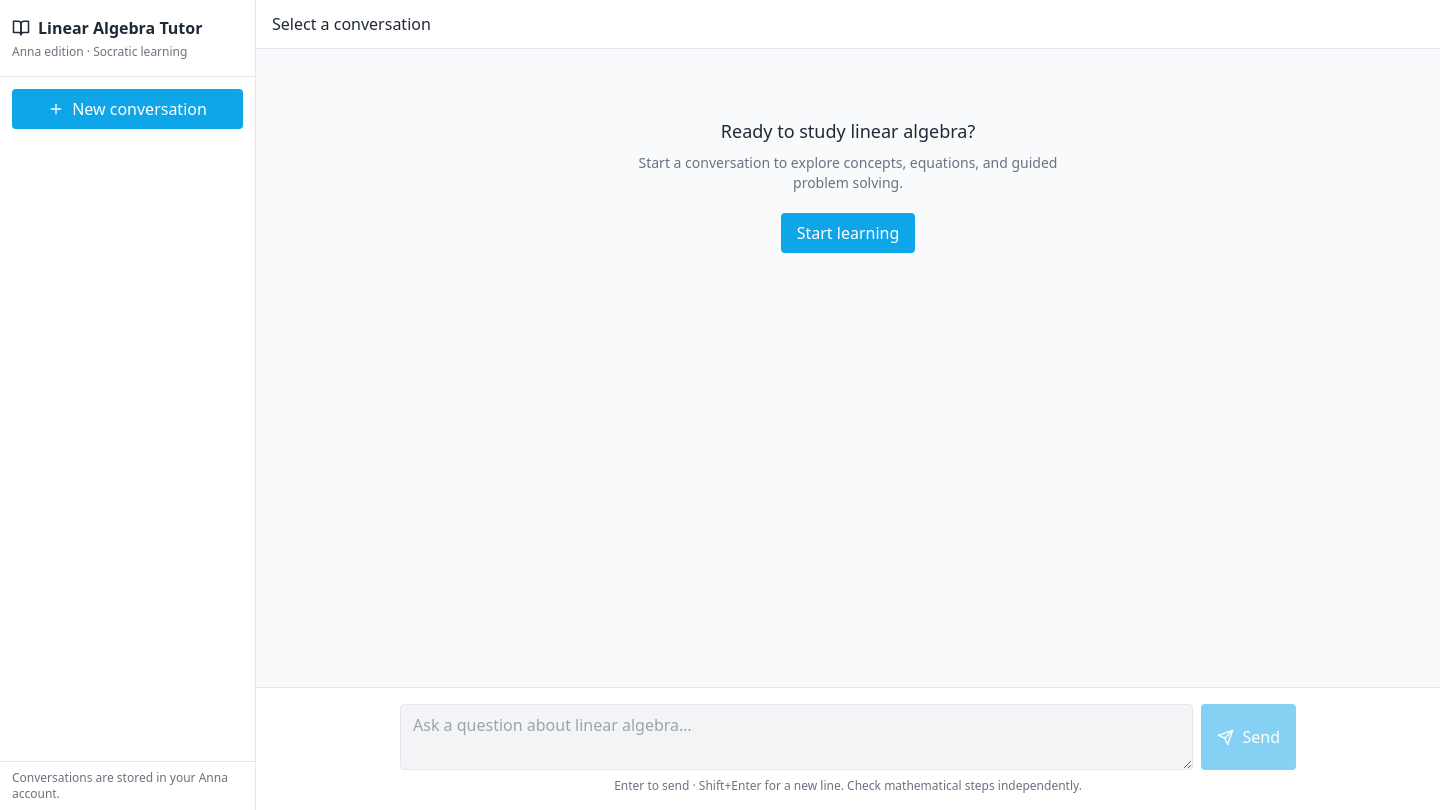
Test: Anna tutoring window › cancels a pending deletion when a different chat is opened
Click the button "Start learning": (848, 233) [781,213,915,253]
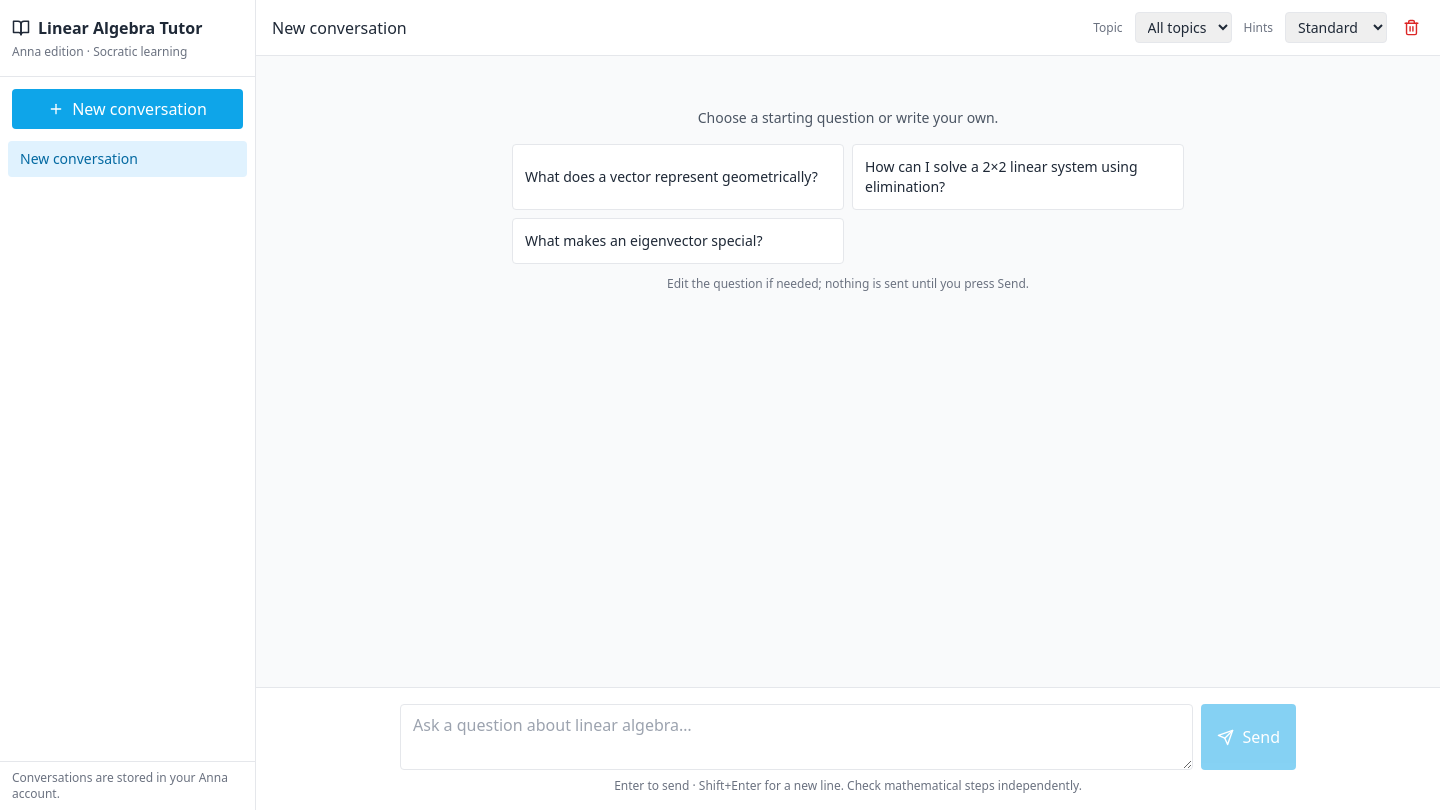
In the text box named "Ask a linear algebra question": (797, 737) [400,704,1194,770], type "What is a vector?"
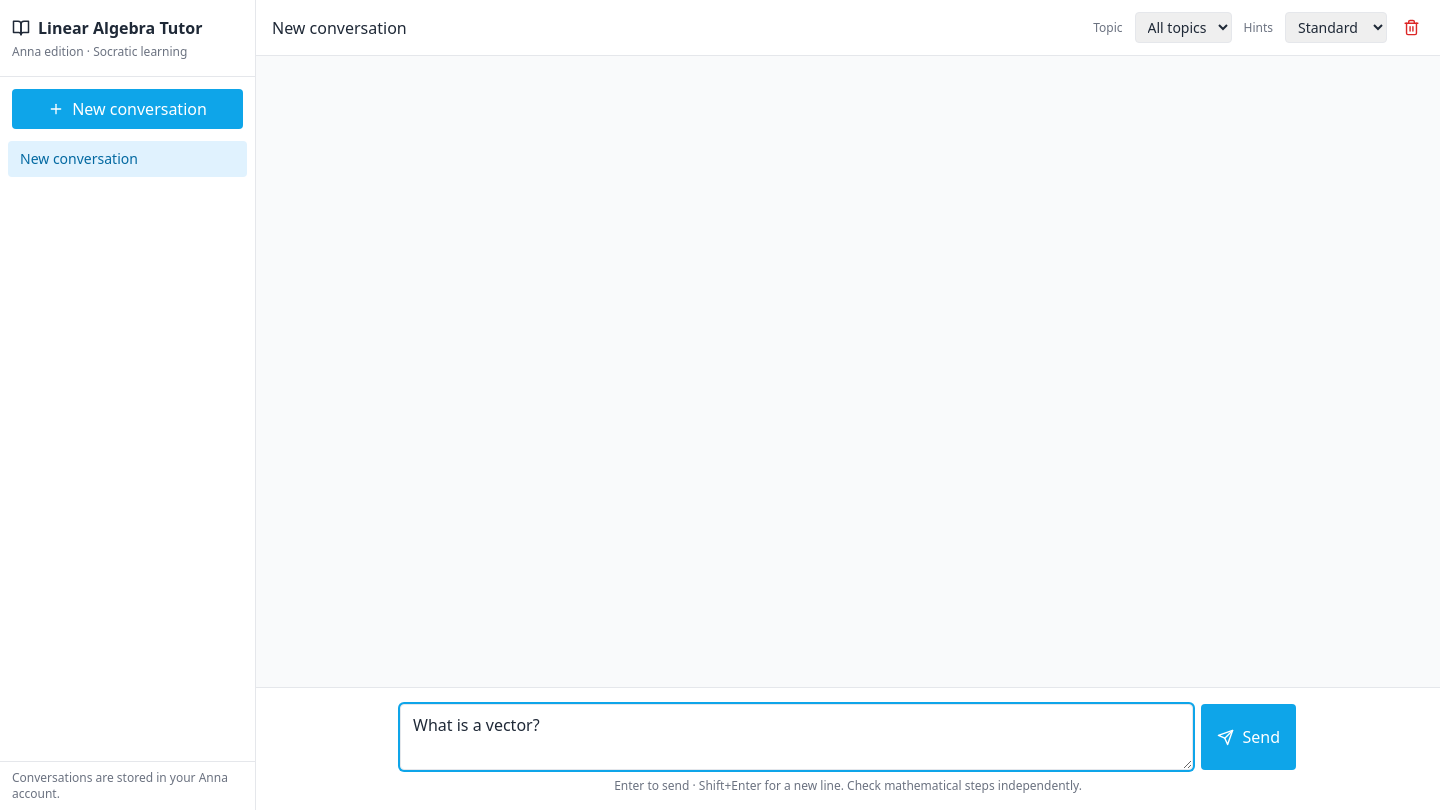
Click the button "Send": (1249, 737) [1202,704,1296,770]
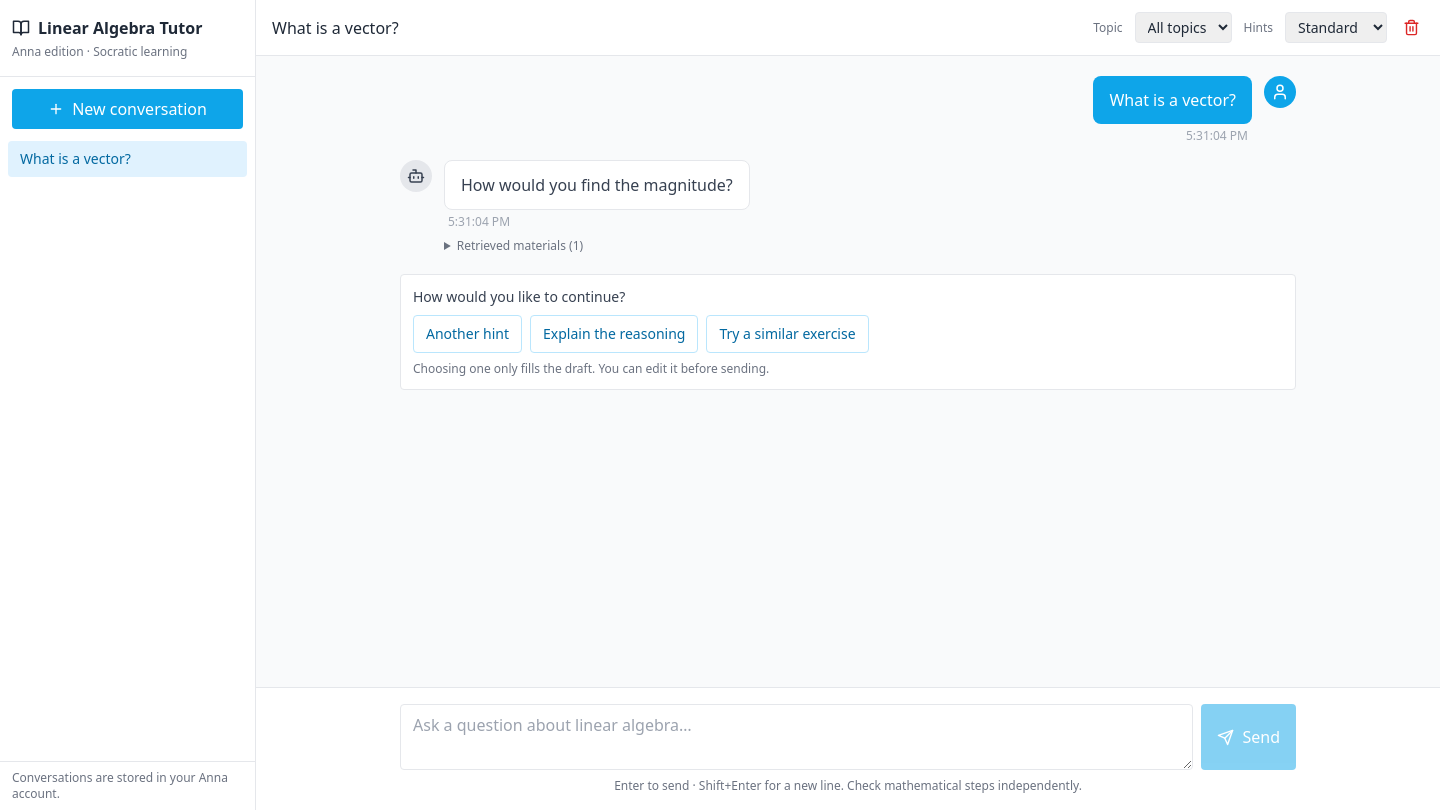
Expected: the text "How would you find the magnitude?" is shown, [461,173,733,197]
Click the button with aria-label "Create conversation": (128, 109) [12,89,243,129]
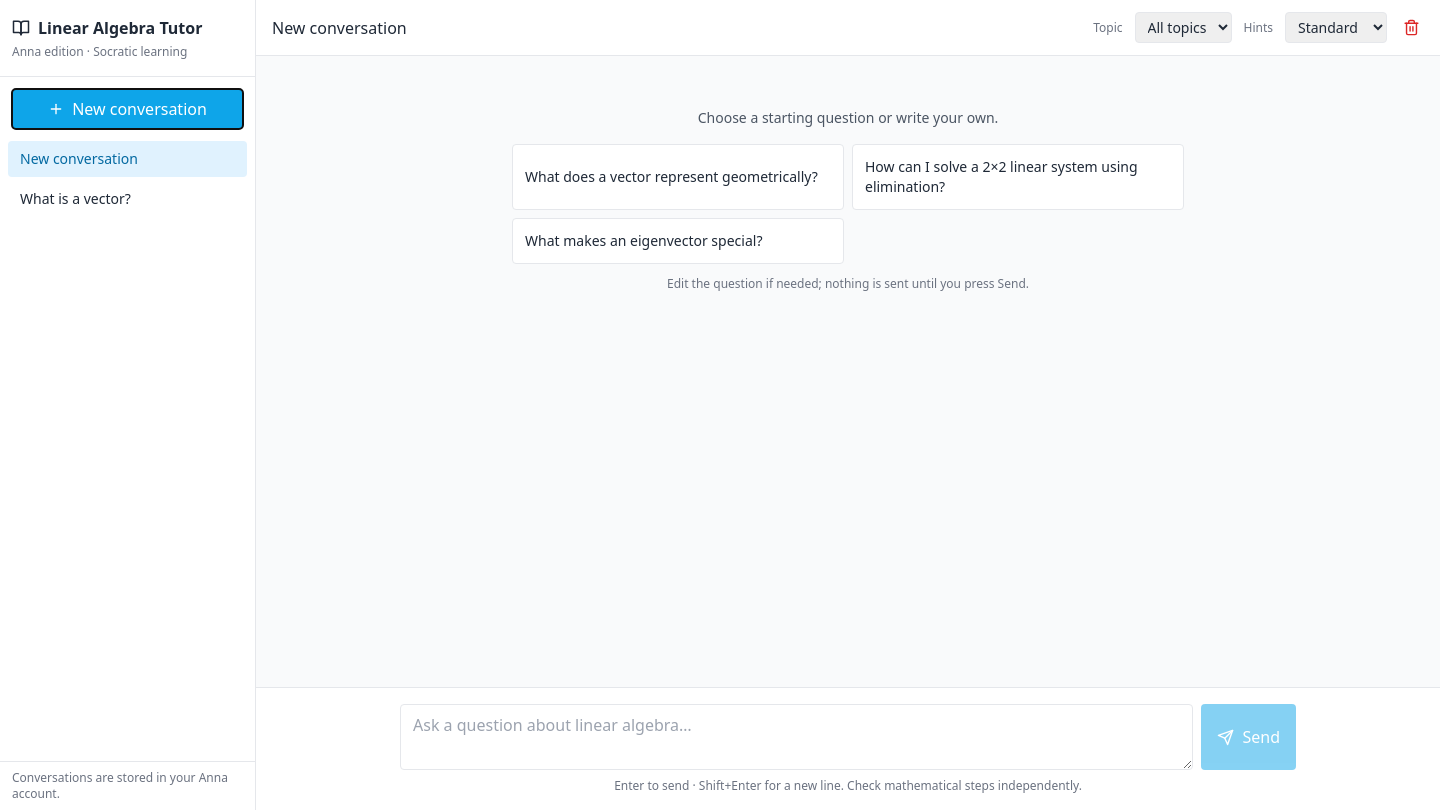
Click the button named "Delete conversation": (1412, 28) [1399,15,1424,40]
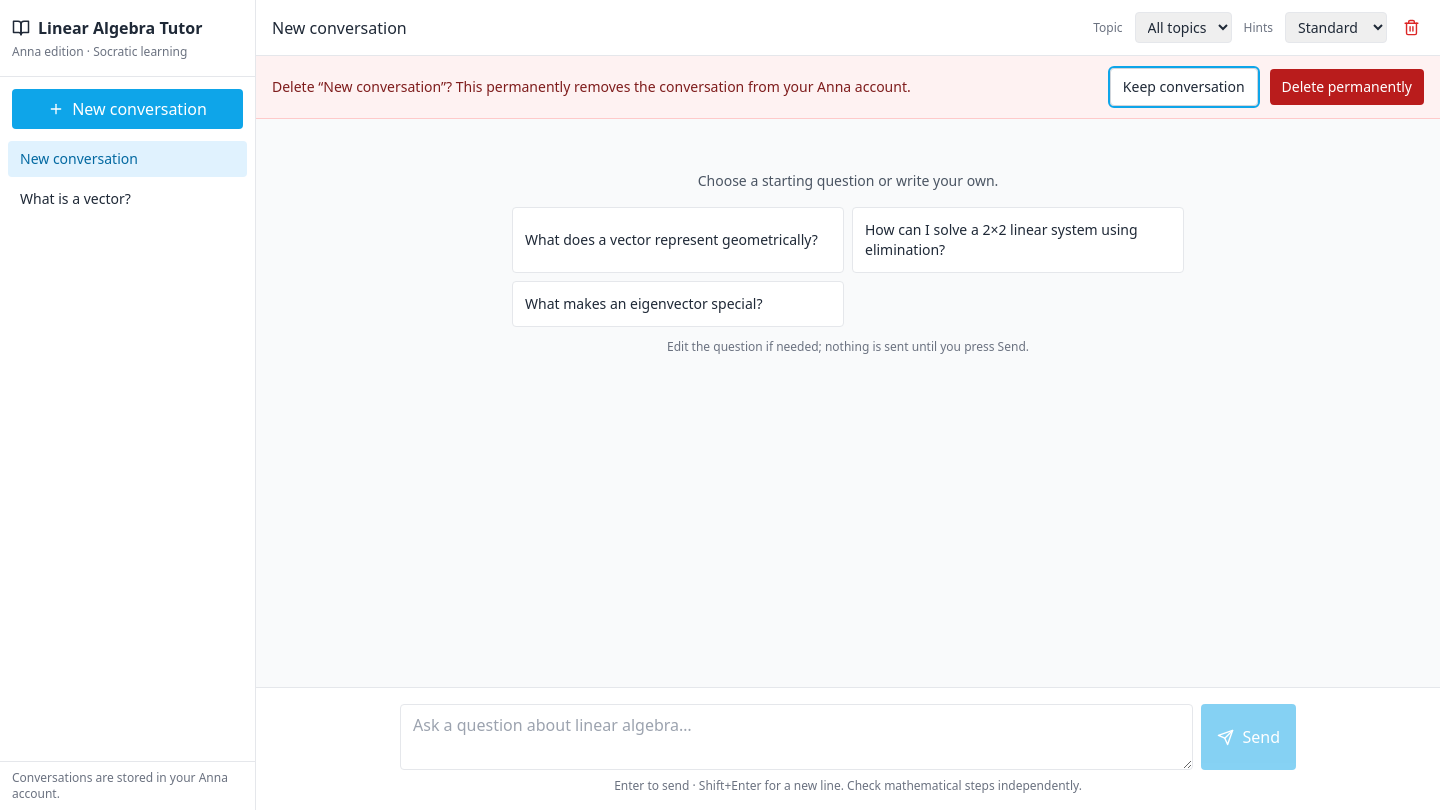
Click the button "What is a vector?": (128, 199) [8,181,247,217]
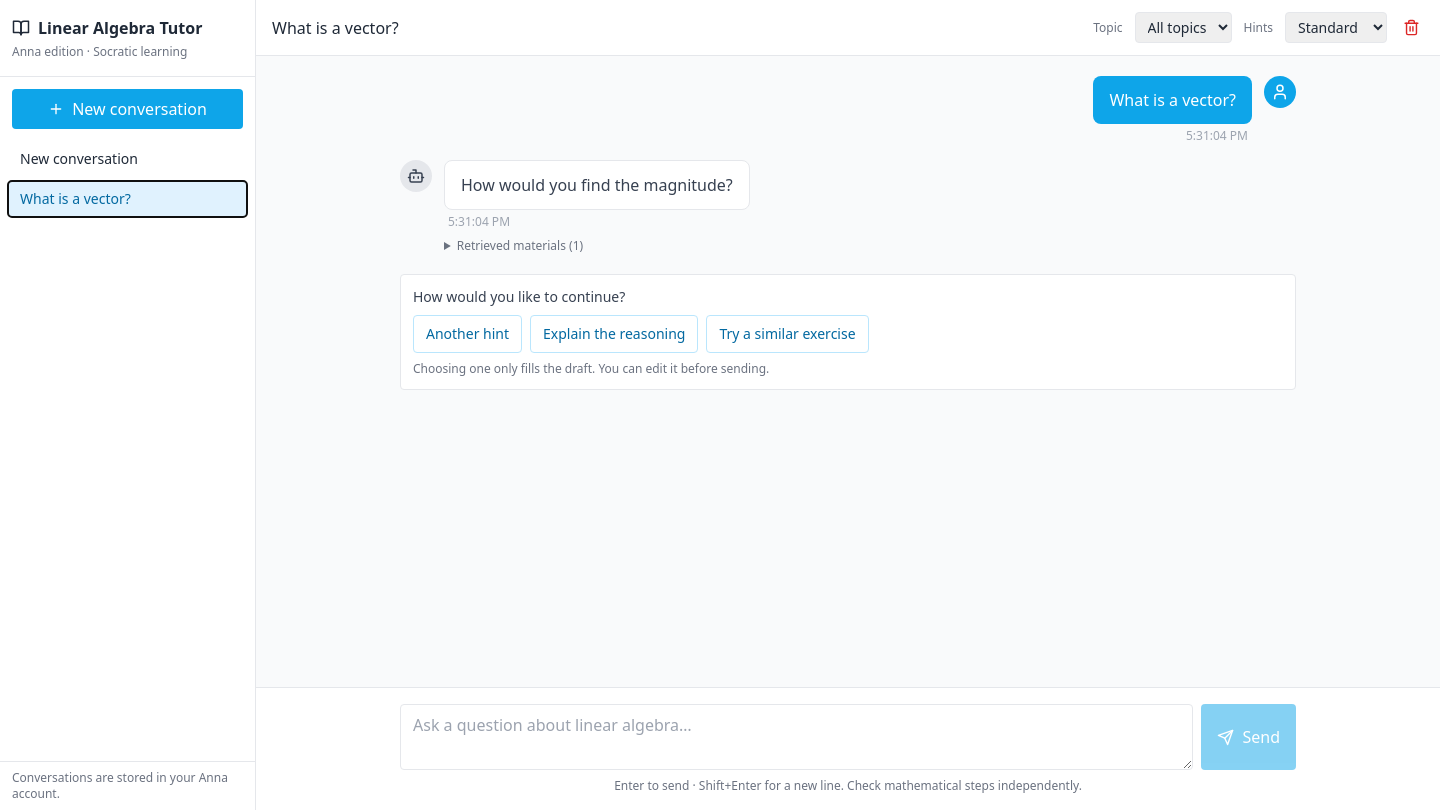
Expected: the heading "What is a vector?" is shown, [272,16,399,40]
